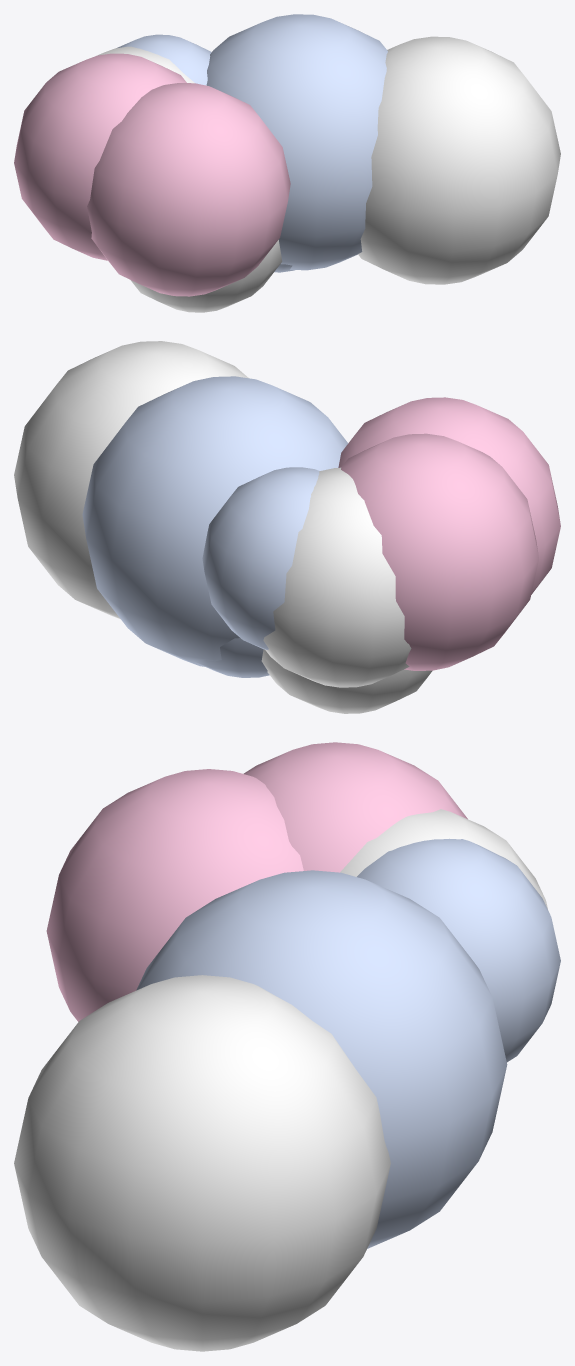
Rendered from Cloud_1.glb.
3 views of the same model, one above another, from view 1: azimuth 30°, elevation 25°; view 2: azimuth 150°, elevation 25°; view 3: azimuth 270°, elevation 25° (orthographic). The views are drawn at different scales.
Parts seen in each view (by area): view 1: Cloud_1.001; view 2: Cloud_1.001; view 3: Cloud_1.001.
Part boxes in pixels (left/top/right/bottom): Cloud_1.001: left=14, top=14, right=560, bottom=312; Cloud_1.001: left=14, top=341, right=560, bottom=713; Cloud_1.001: left=14, top=742, right=560, bottom=1351.
Bounding box in the file's own units: 10.11 × 5.12 × 6.66.
